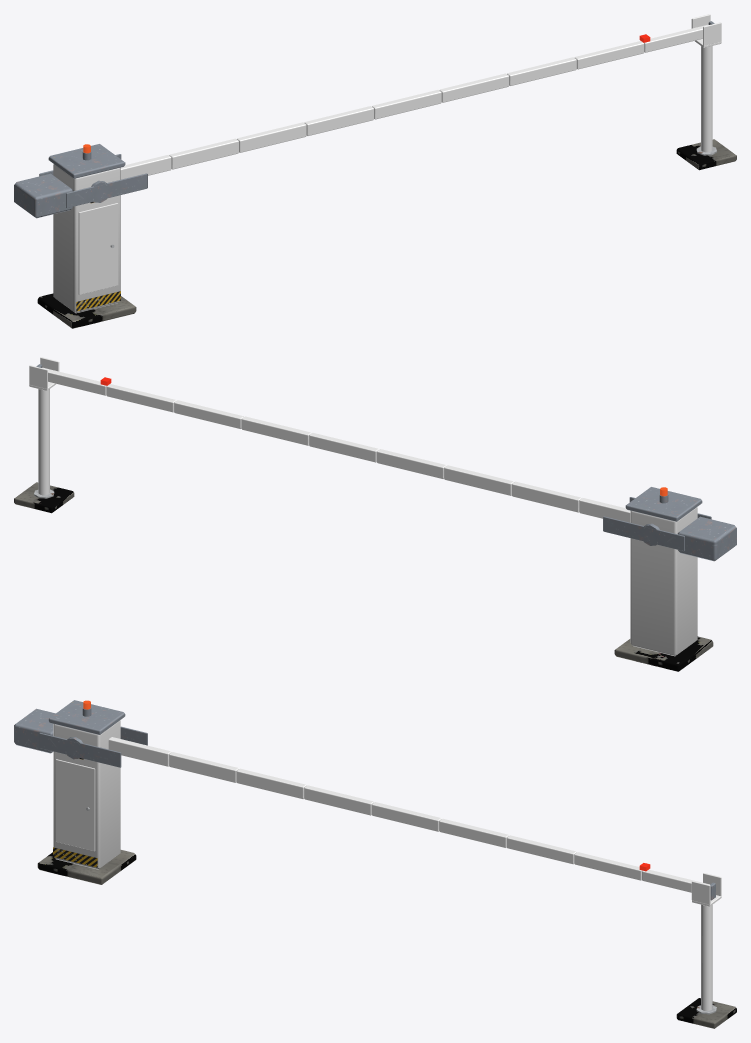
Rendered from gate_arm.glb.
3 views of the same model, one above another, from view 1: azimuth 30°, elevation 25°; view 2: azimuth 150°, elevation 25°; view 3: azimuth 330°, elevation 25° (orthographic).
Parts seen in each view (by area): view 1: gate_arm; view 2: gate_arm; view 3: gate_arm.
Part boxes in pixels (x1=…): gate_arm: x1=14, y1=14, x2=736, y2=328; gate_arm: x1=14, y1=357, x2=736, y2=671; gate_arm: x1=14, y1=700, x2=736, y2=1028.
Bounding box in the file's own units: 5.34 × 1.19 × 0.46.
11 materials, 9 textured.
